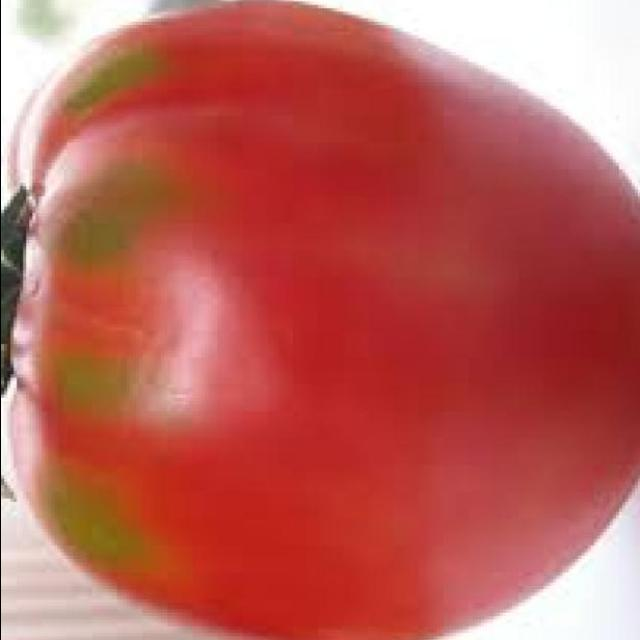Healthy: (6, 10, 640, 640)
